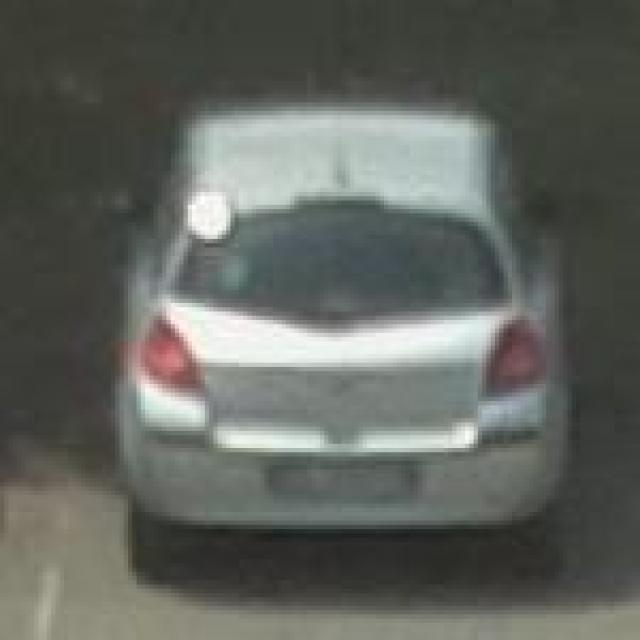cars-sUYr: (73, 64, 606, 599)
